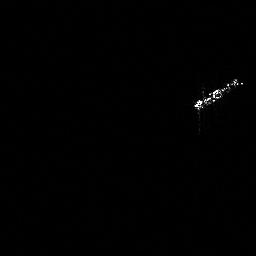ship: (193, 78, 244, 111)
